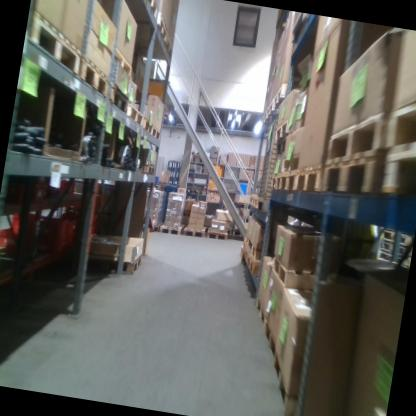pallet: (323, 102, 395, 169), (21, 11, 90, 80), (320, 143, 386, 201), (266, 352, 308, 416), (382, 81, 416, 156), (380, 133, 416, 198), (269, 254, 321, 293), (86, 245, 143, 278), (77, 54, 114, 100), (258, 317, 284, 358), (294, 159, 325, 193), (111, 46, 136, 77), (252, 294, 271, 333), (107, 85, 130, 115), (276, 165, 299, 194), (129, 0, 160, 21), (153, 11, 171, 46), (280, 149, 302, 177), (274, 115, 295, 144), (272, 80, 290, 111), (124, 101, 145, 126), (244, 253, 264, 275), (181, 223, 206, 240), (158, 221, 181, 237), (205, 227, 229, 242), (248, 241, 265, 260), (140, 116, 154, 135), (268, 174, 281, 192), (265, 96, 274, 121), (150, 126, 162, 141), (241, 243, 249, 263), (251, 195, 260, 210), (261, 107, 267, 125), (244, 232, 252, 245), (248, 193, 256, 204)
pallet_truck: (140, 171, 165, 231)
small_load_carrier: (0, 221, 26, 251), (51, 176, 77, 202), (27, 180, 48, 205)
